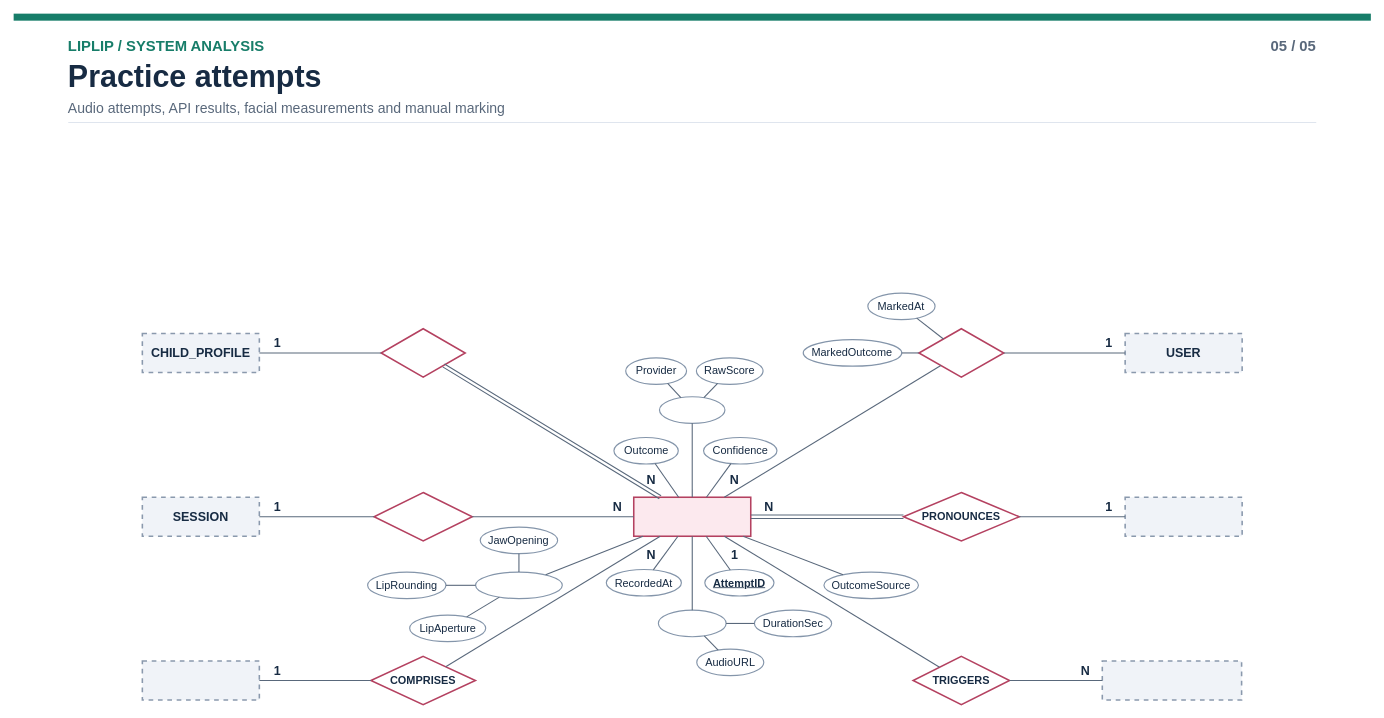
The diagram is 1384 pixels wide and 718 high, and some of its shapes have lost their labels. Each missing label, with the centre of its shape:
ADAPTIVE_DECISION: (1171,680)
APIResult: (692,410)
ASSESSMENT: (200,680)
ATTEMPT: (692,516)
CONTAINS: (423,516)
CONTENT_ITEM: (1183,516)
FaceMeasures: (519,585)
MAKES: (423,353)
MARKS: (961,353)
Recording: (691,623)
